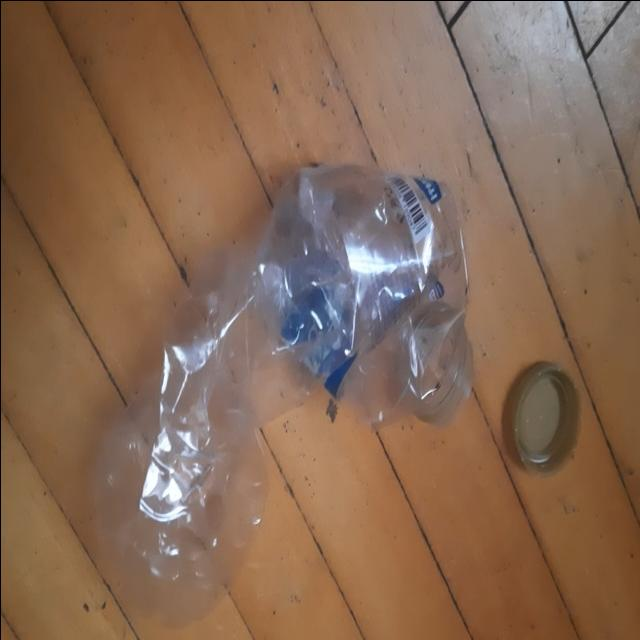Plastic: (94, 163, 468, 629)
